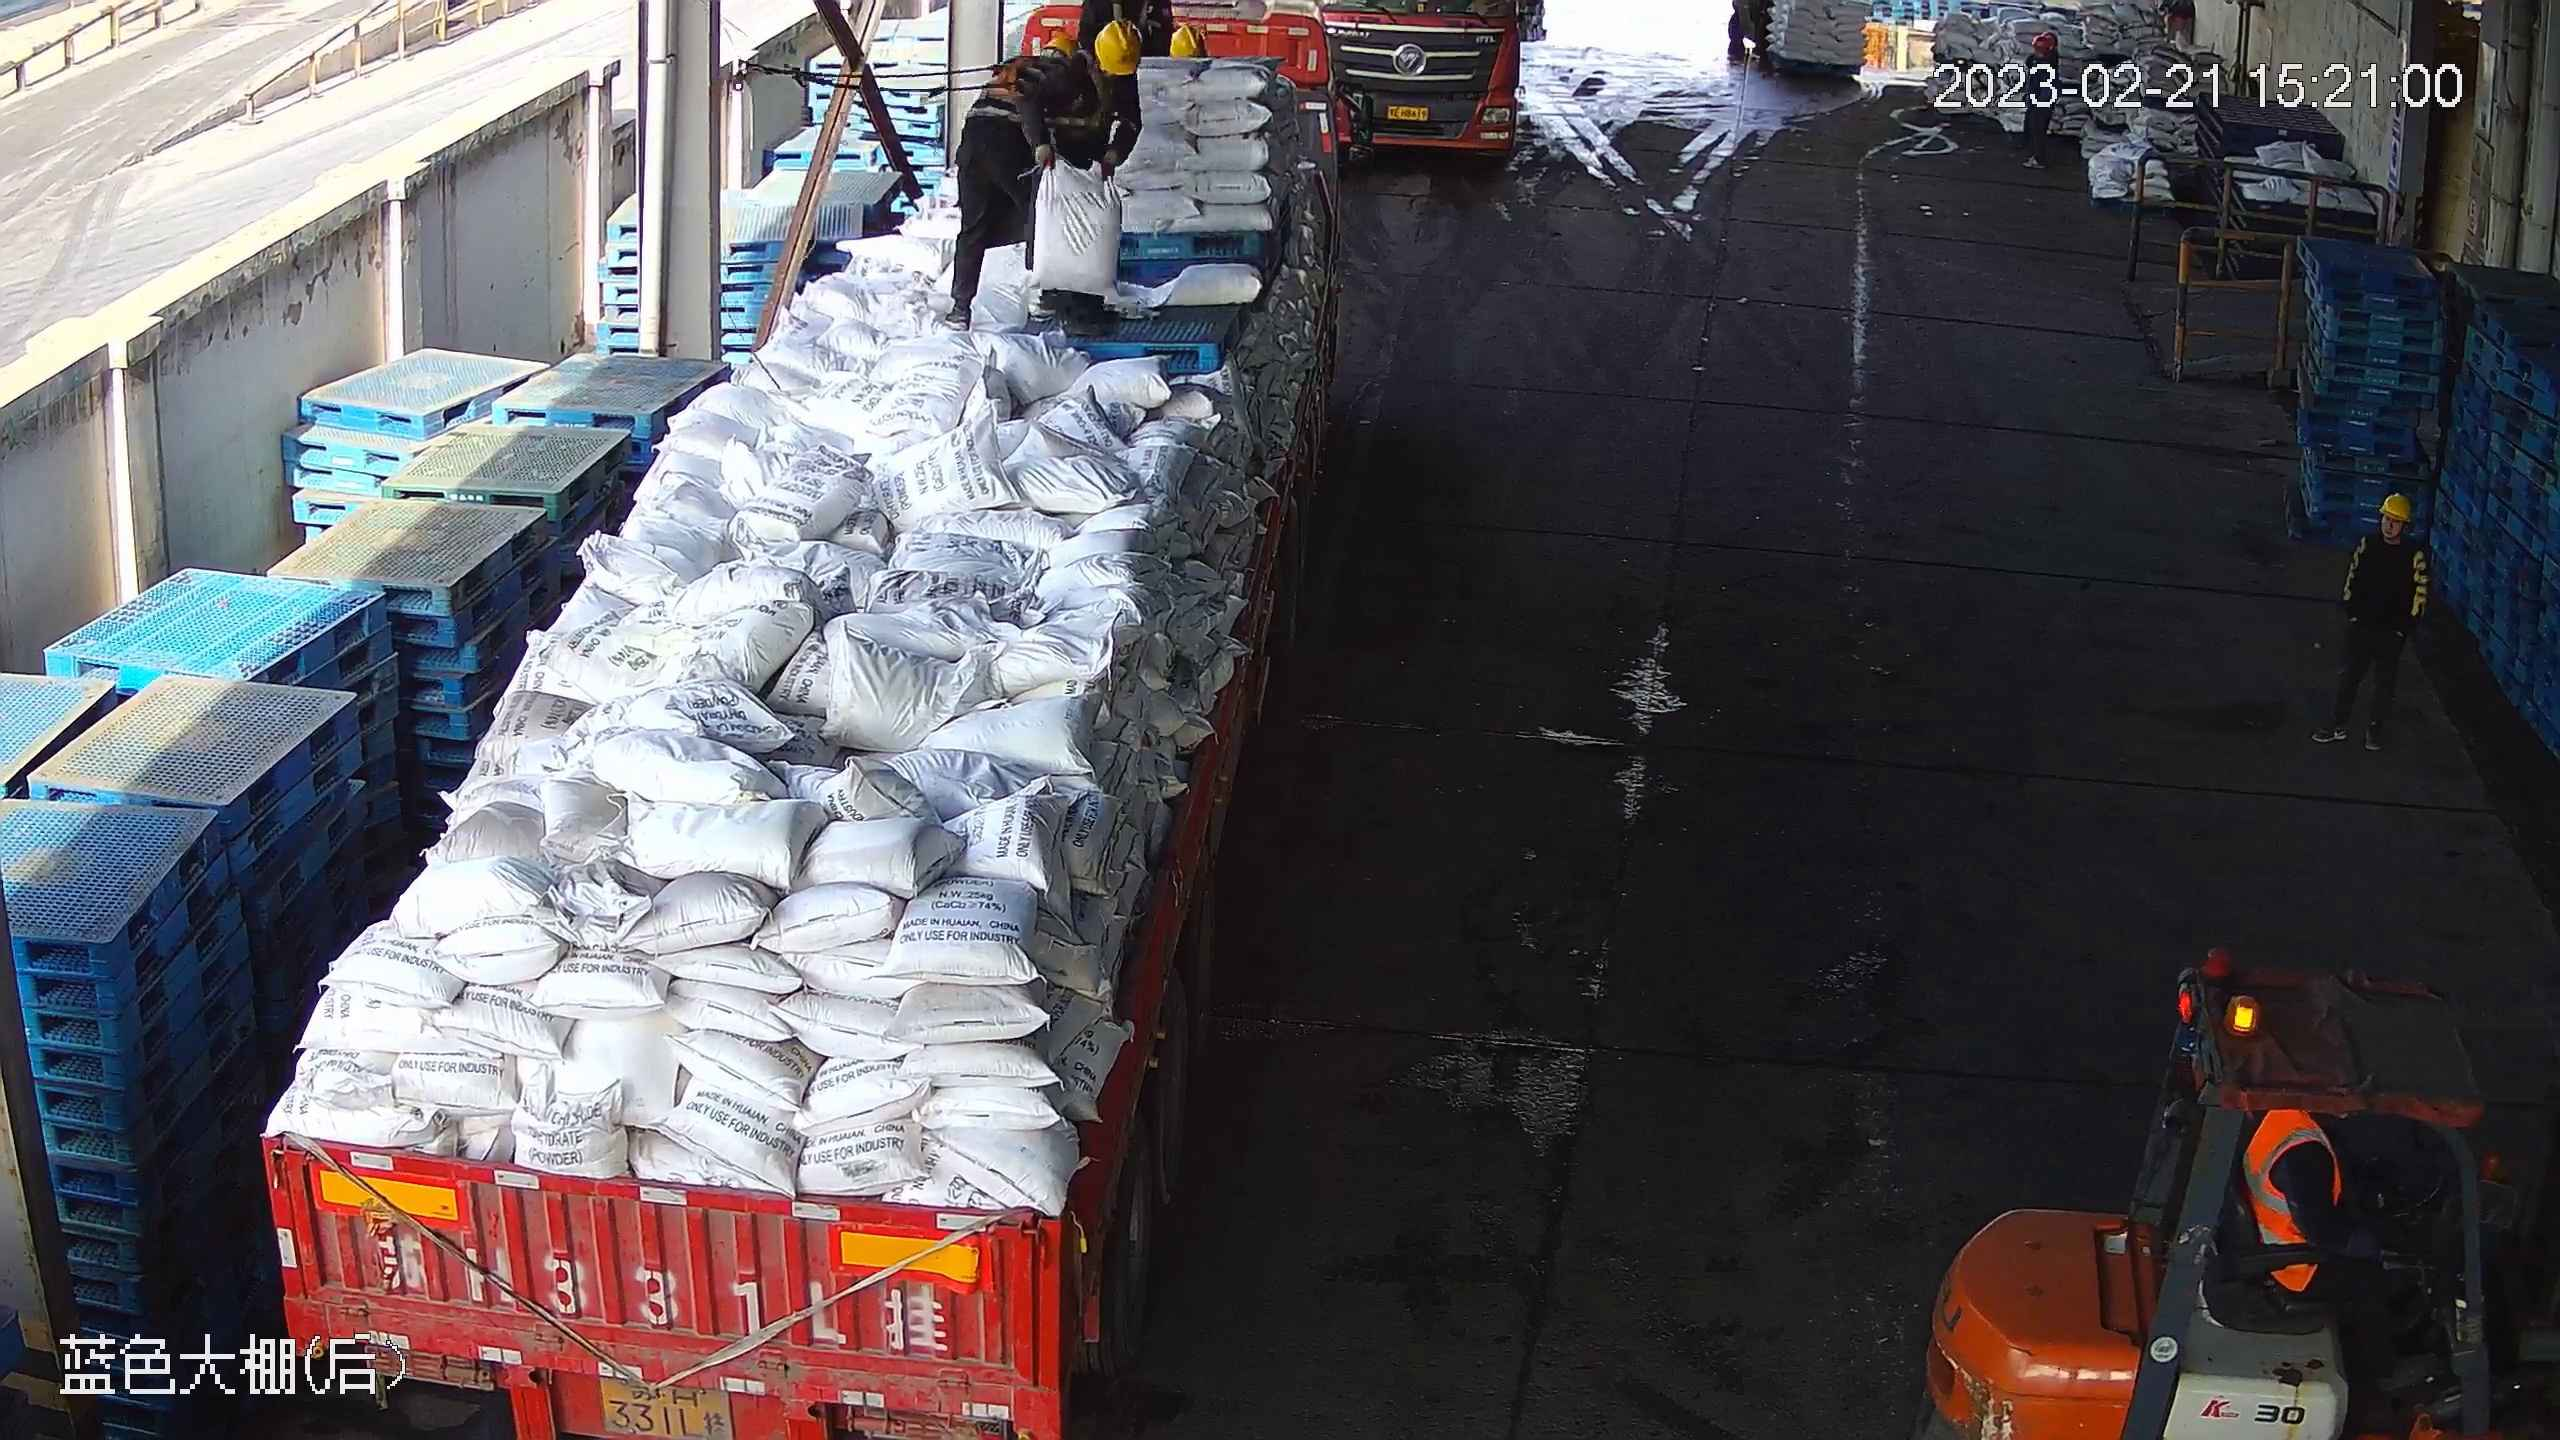belt: (1063, 53, 1123, 137), (978, 56, 1030, 111), (1111, 4, 1157, 20)
head: (968, 29, 1066, 102), (2348, 493, 2431, 571), (1073, 23, 1141, 115)
helmet: (1092, 19, 1145, 71), (1165, 22, 1221, 60), (1035, 30, 1076, 58), (2376, 494, 2415, 522)
people: (945, 29, 1075, 331), (1023, 19, 1145, 329), (2308, 489, 2432, 748)
truck: (253, 1, 1351, 1440), (1311, 3, 1522, 154)
